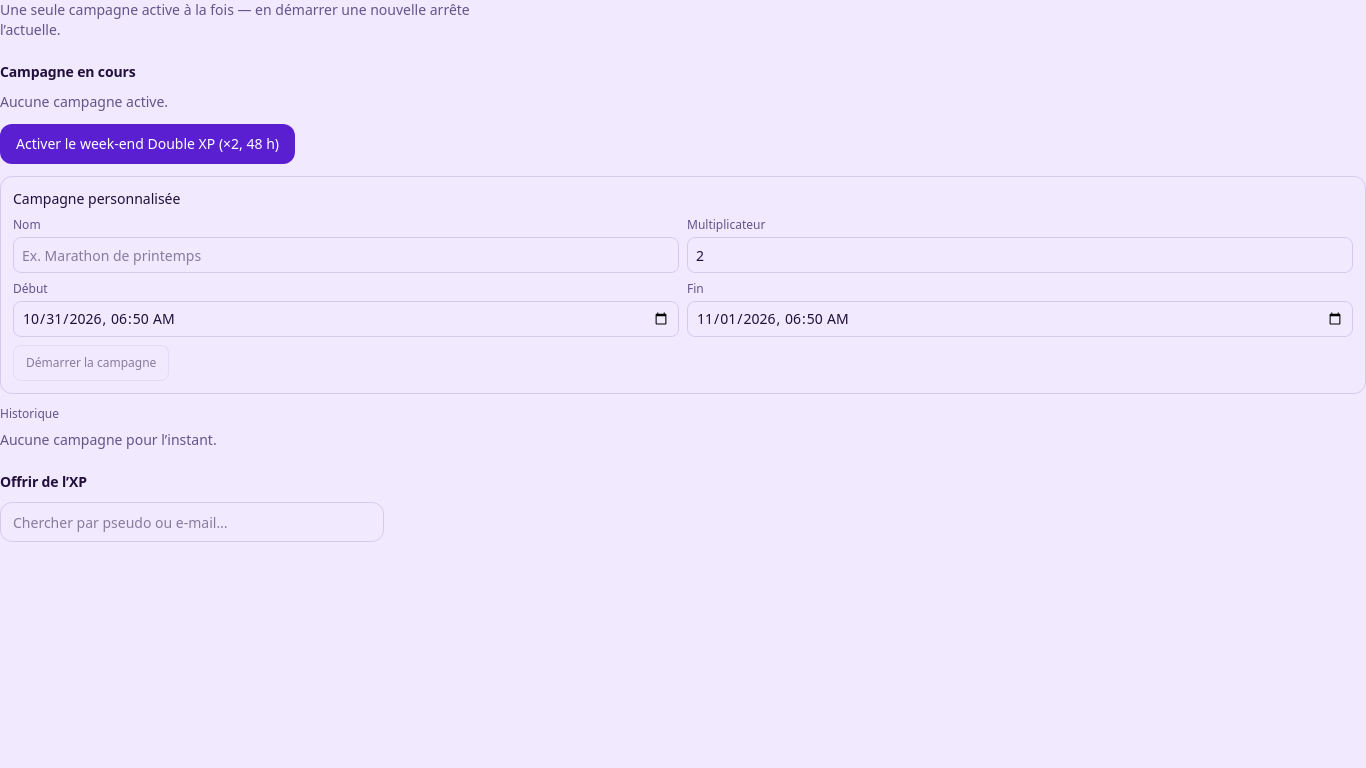
Scenario: AdminGameMasterPanel — Maître du jeu (lot I3, §6) › le bouton Offrir reste désactivé sans pilier ni motif
Expected: the text "Aucune campagne active." is shown, [0, 92, 168, 111]
Type "ali" into the field with placeholder "Chercher par pseudo ou e-mail…" at (192,522), box [0, 502, 384, 542]
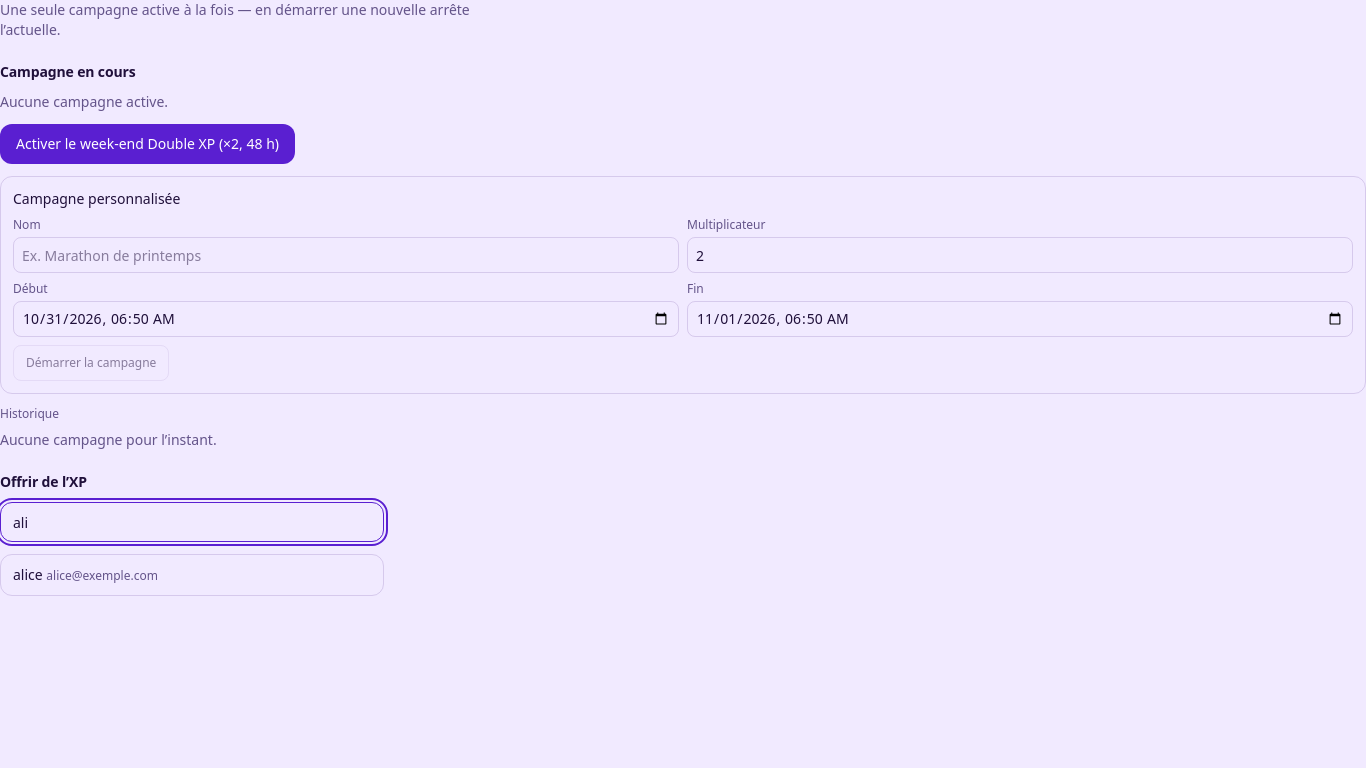
Click the button "alice alice@exemple.com" at (102,576), box [5, 559, 379, 591]
(page scrolled)
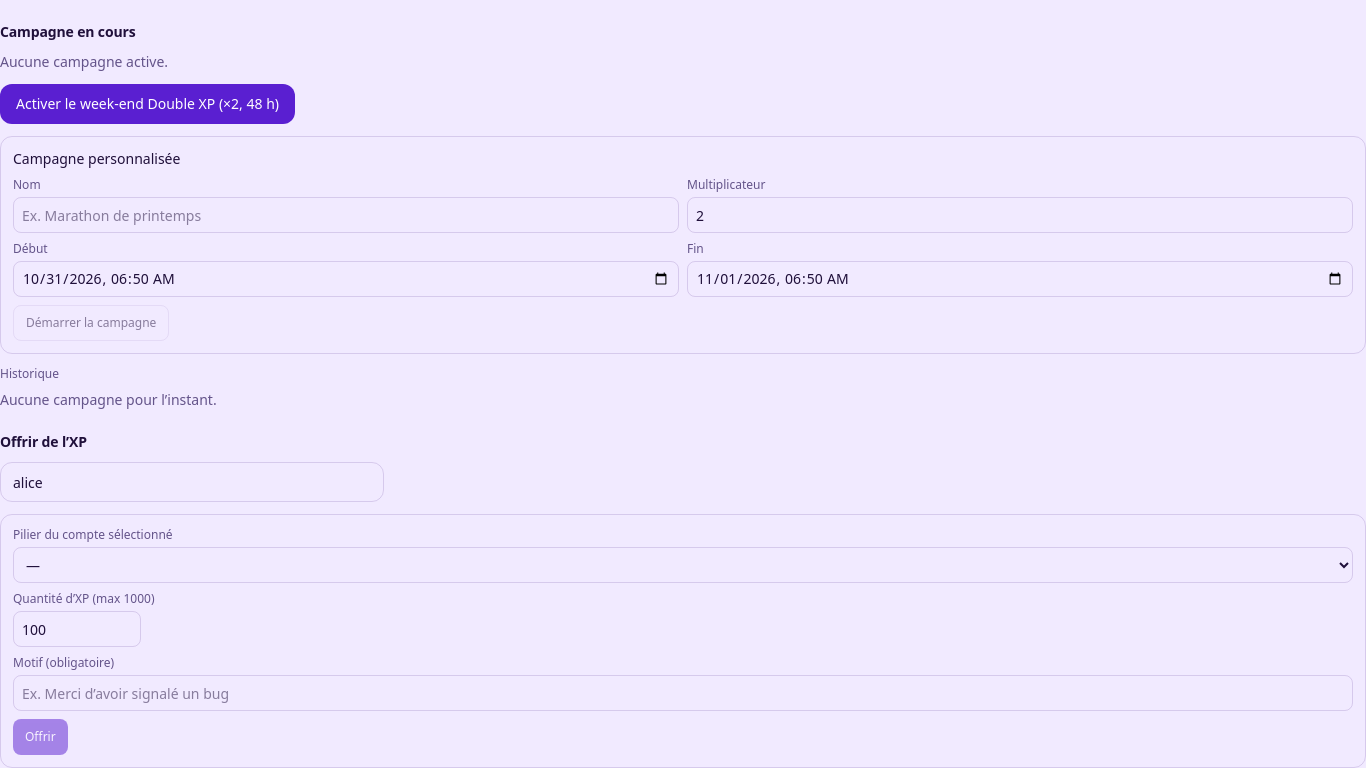
Expected: the button "Offrir" is disabled, [13, 719, 68, 755]
